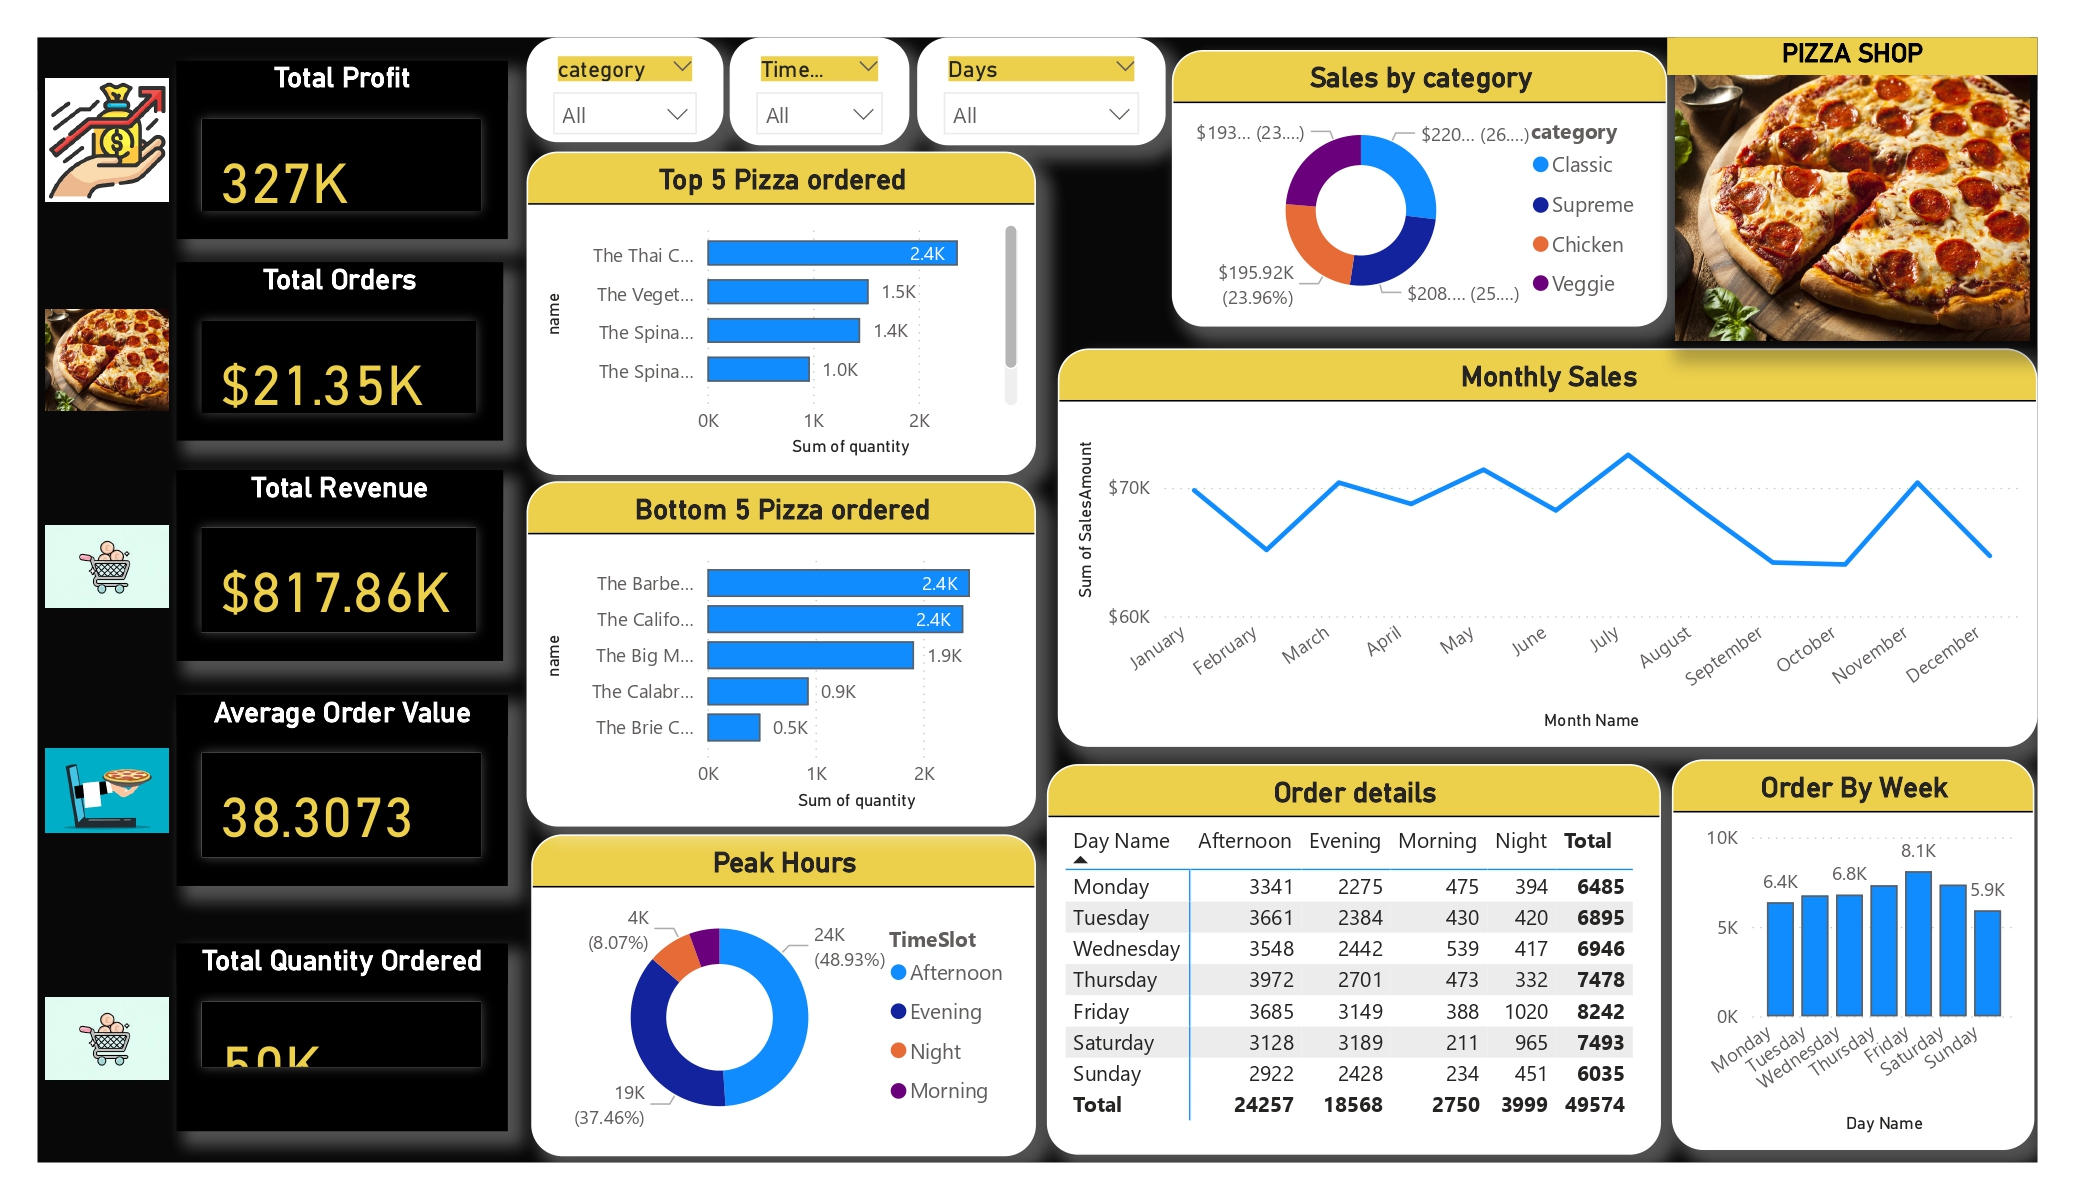

The dashboard page shown, as its layout file describes it:
{"tool":"powerbi","page":{"name":"page 1","canvas":[1280,720],"ordinal":0},"visuals":[{"type":"lineChart","title":"Monthly Sales","fields":{"Y":["Sum(orders details.SalesAmount)"],"Category":["Orders.Month Name"]},"box":[653.2,199,627.1,255.2],"z":0},{"type":"image","box":[0,168.9,88.9,75.6],"z":1000},{"type":"slicer","title":"Months","fields":{"Values":["Orders.Day Name"]},"box":[562.6,0,159.2,68.6],"z":2000},{"type":"cardVisual","title":"Total Profit","fields":{"Data":["Sum(orders details.Profit)"]},"box":[89.2,15.1,211.3,113.9],"z":3000},{"type":"slicer","title":"Pizza","fields":{"Values":["Pizza_type.category"]},"box":[312.9,0,126.2,67.2],"z":4000},{"type":"slicer","title":"Time slots","fields":{"Values":["Orders.TimeSlot"]},"box":[443.2,0,115.3,68.6],"z":5000},{"type":"cardVisual","title":"Total Revenue","fields":{"Data":["orders details.TotalRevenue"]},"box":[89.2,277.2,208.6,122.1],"z":6000},{"type":"cardVisual","title":"Total Orders","fields":{"Data":["orders details.TotalOrders"]},"box":[89.2,144.1,208.6,113.9],"z":7000},{"type":"cardVisual","title":"Total Quantity Ordered","fields":{"Data":["orders details.TotalQty"]},"box":[89.2,580.4,211.3,119.4],"z":8000},{"type":"cardVisual","title":"Average Order Value","fields":{"Data":["orders details.AvgOrderValue"]},"box":[89.2,421.3,211.3,122.1],"z":9000},{"type":"image","box":[0,277.3,89.3,122],"z":10000},{"type":"image","box":[0,580.7,89.3,119.3],"z":11000},{"type":"image","box":[0,421.3,89.3,122],"z":12000},{"type":"image","box":[0,8,89.3,114],"z":13000},{"type":"donutChart","title":"Peak Hours","fields":{"Category":["Orders.TimeSlot"],"Y":["Sum(orders details.quantity)"]},"box":[315.6,510.5,323.8,205.8],"z":14000},{"type":"barChart","title":"Top 5 Pizza ordered","fields":{"Category":["Pizza_type.name"],"Y":["Sum(orders details.quantity)"]},"box":[312.9,72.7,326.6,207.2],"z":15000},{"type":"barChart","title":"Bottom 5 Pizza ordered","fields":{"Category":["Pizza_type.name"],"Y":["Sum(orders details.quantity)"]},"box":[312.9,284,326.6,220.9],"z":16000},{"type":"donutChart","title":"Sales by category","fields":{"Category":["Pizza_type.category"],"Y":["Sum(orders details.SalesAmount)"]},"box":[725.9,8.2,317,177],"z":17000},{"type":"image","title":"PIZZA SHOP","box":[1042.9,0,237.4,199],"z":18000},{"type":"pivotTable","title":"Order details","fields":{"Rows":["Orders.Day Name"],"Values":["Sum(orders details.quantity)"],"Columns":["Orders.TimeSlot"]},"box":[646.3,465.2,392.5,249.7],"z":19000},{"type":"columnChart","title":"Order By Week","fields":{"Category":["Orders.Day Name"],"Y":["CountNonNull(orders details.order_id)"]},"box":[1045.6,462.4,231.9,249.7],"z":20000}]}

Visuals, with their boxes in screenshot pixels (x1, y1, x2, y2):
"Monthly Sales" lineChart: (1058,348,2038,747)
image: (38,301,176,420)
"Months" slicer: (917,38,1165,145)
"Total Profit" cardVisual: (177,61,507,239)
"Pizza" slicer: (526,38,724,142)
"Time slots" slicer: (730,38,910,145)
"Total Revenue" cardVisual: (177,471,503,661)
"Total Orders" cardVisual: (177,263,503,441)
"Total Quantity Ordered" cardVisual: (177,944,507,1131)
"Average Order Value" cardVisual: (177,696,507,887)
image: (38,471,177,661)
image: (38,945,177,1131)
image: (38,696,177,886)
image: (38,50,177,228)
"Peak Hours" donutChart: (531,835,1037,1157)
"Top 5 Pizza ordered" barChart: (526,151,1037,475)
"Bottom 5 Pizza ordered" barChart: (526,481,1037,826)
"Sales by category" donutChart: (1172,50,1667,327)
"PIZZA SHOP" image: (1667,38,2038,348)
"Order details" pivotTable: (1047,764,1661,1155)
"Order By Week" columnChart: (1671,760,2034,1150)
